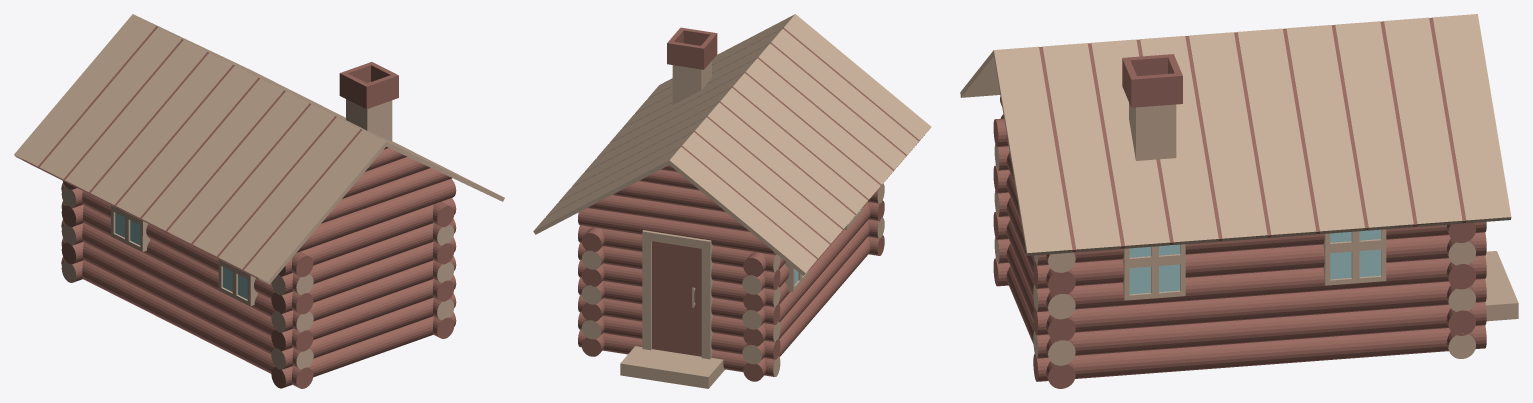
File: 5xli1AZx7tL.glb
3 renders of one model, left to right at view 1: azimuth 30°, elevation 25°; view 2: azimuth 150°, elevation 25°; view 3: azimuth 270°, elevation 25°, orthographic. The views are drawn at different scales.
Parts seen in each view (by area): view 1: Box038, Cylinder039, Object005; view 2: Box038, Cylinder039; view 3: Box038, Cylinder039, Object005.
Boxes of the visible parts, box(x1,y1,x2,y2) form: Box038: box(14, 14, 504, 369); Cylinder039: box(22, 26, 456, 388); Object005: box(115, 213, 247, 299); Box038: box(533, 14, 931, 388); Cylinder039: box(549, 27, 924, 381); Box038: box(960, 14, 1518, 365); Cylinder039: box(993, 17, 1486, 388); Object005: box(1129, 229, 1380, 294).
Bounding box in the file's own units: 1.43 × 1 × 1.71.
